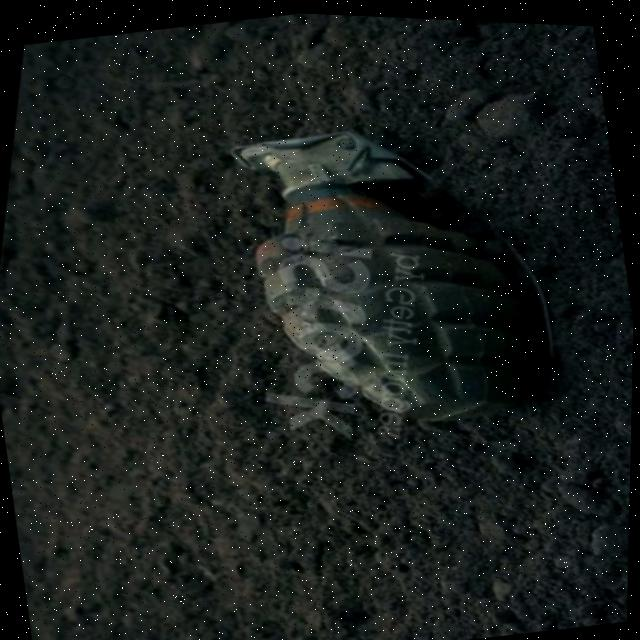grenade: (168, 64, 598, 475)
